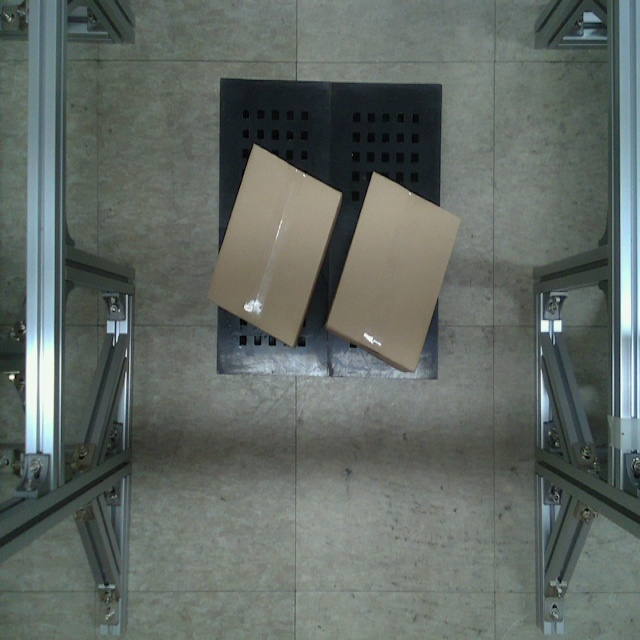box: (325, 167, 463, 376), (208, 140, 342, 349)
